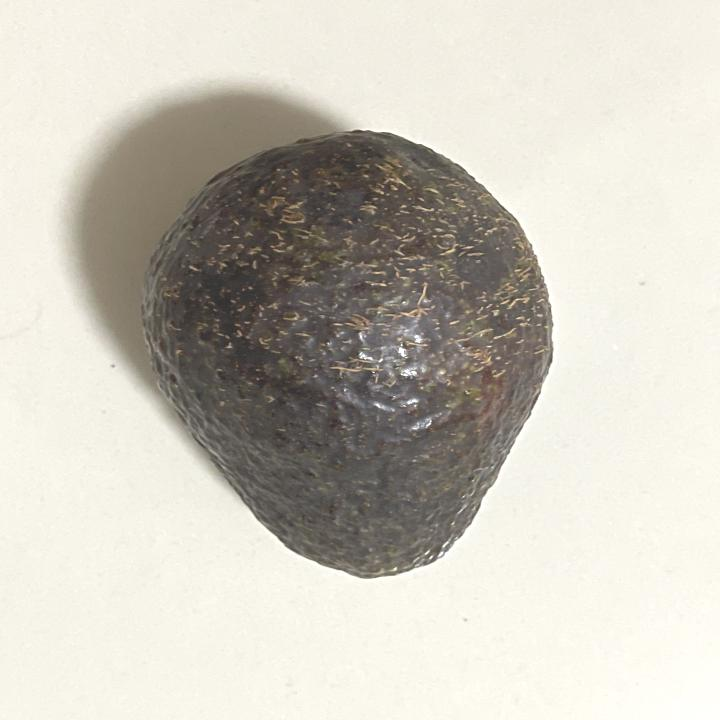Level2: (134, 120, 564, 590)
